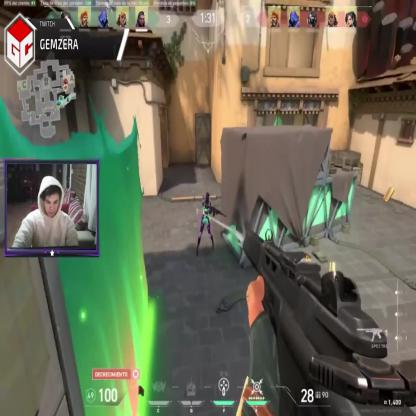enemy: (197, 190, 215, 256)
enemy_head: (205, 192, 210, 202)
